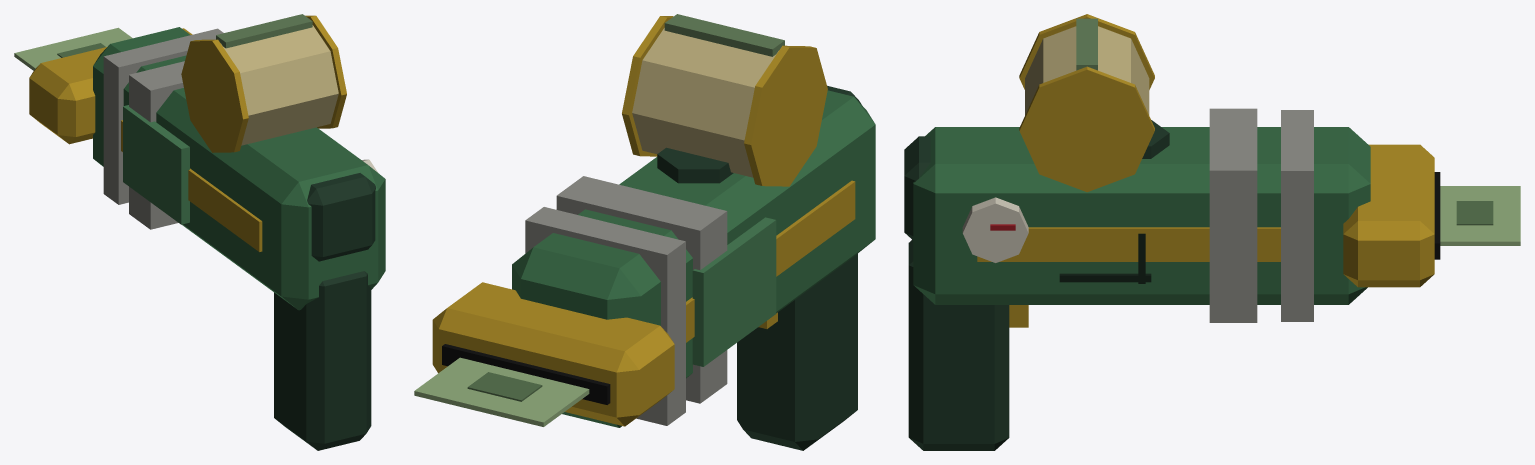
Rendered from money_gun_world.glb.
3 views of the same model, side by side, from view 1: azimuth 30°, elevation 25°; view 2: azimuth 150°, elevation 25°; view 3: azimuth 270°, elevation 25° (orthographic). The views are drawn at different scales.
Visible parts, largest first — view 1: MoneyGunWorld; view 2: MoneyGunWorld; view 3: MoneyGunWorld.
Boxes of the visible parts, <box> form: MoneyGunWorld: <box>14,14,385,450</box>; MoneyGunWorld: <box>414,14,875,450</box>; MoneyGunWorld: <box>904,14,1520,450</box>.
Size of the model in its own units: 0.115 by 0.24 by 0.337.
